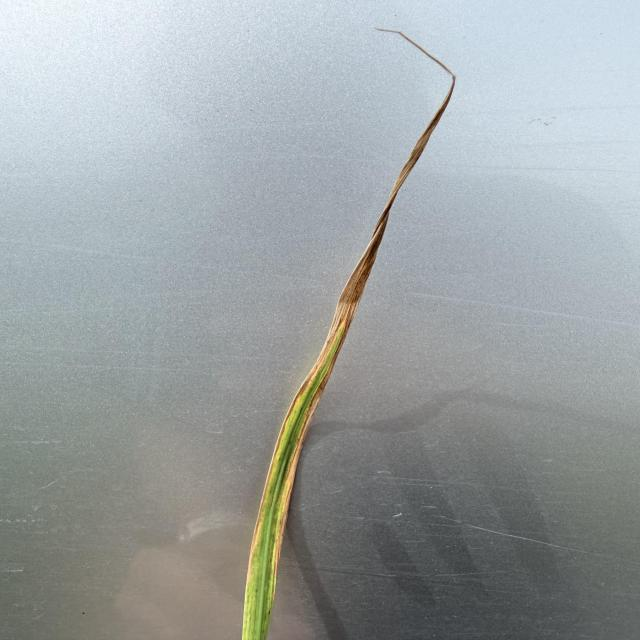Chay bia la: (249, 27, 457, 581)
